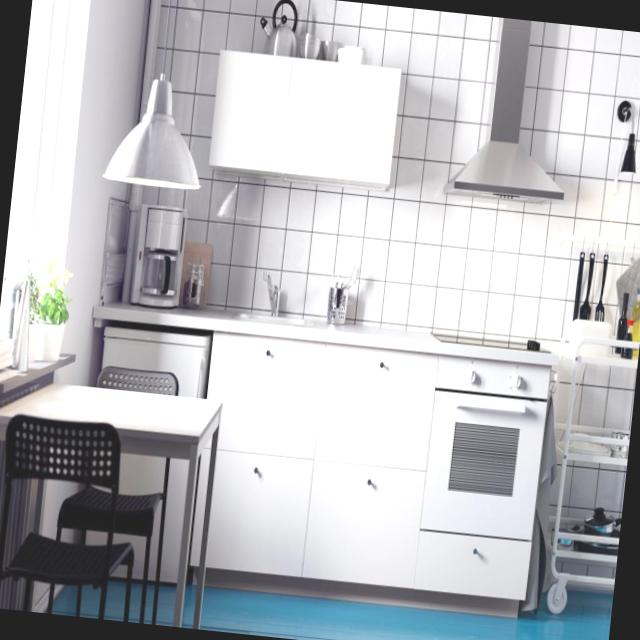obstacle: (0, 352, 227, 629)
